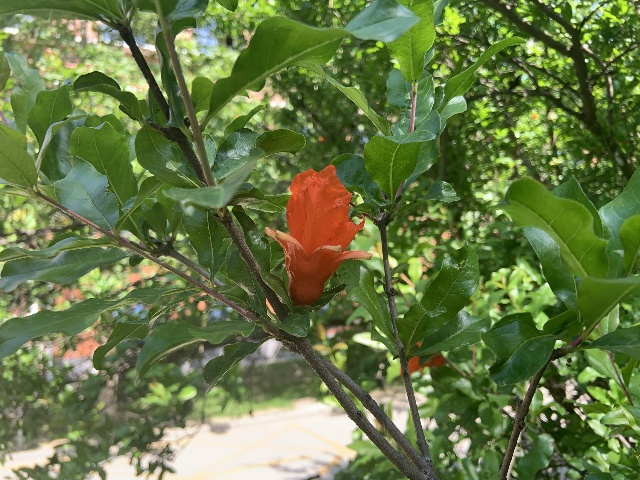flower: (266, 164, 370, 306), (400, 340, 444, 375)
